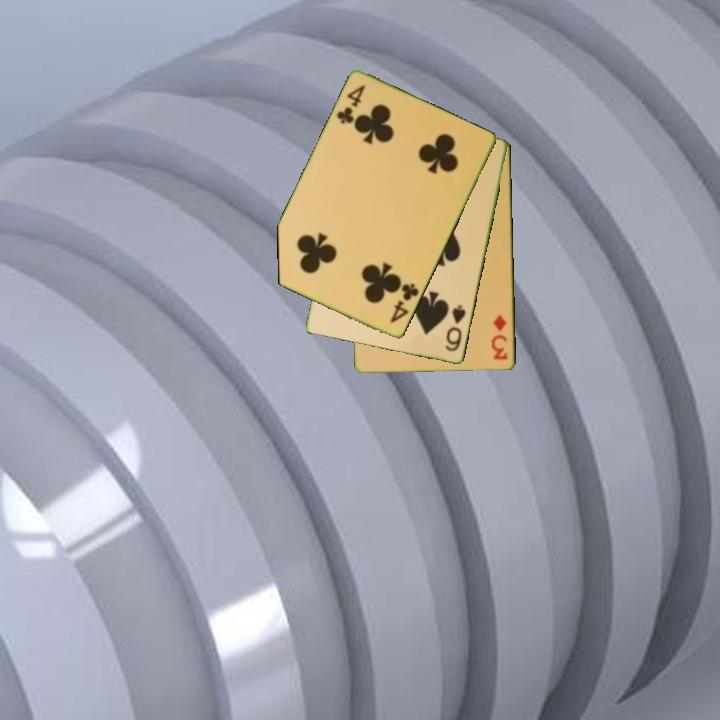3d: (489, 311, 510, 363)
4c: (387, 280, 422, 327), (333, 81, 368, 128)
6s: (442, 302, 469, 354)
